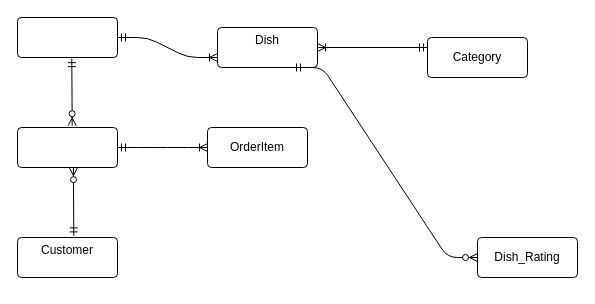
The diagram is 595 pixels wide and 304 high, and some of its shapes have lost their labels. Each missing label, with the centre of its shape:
Order: pixel 67 147
Restaurant: pixel 67 37
